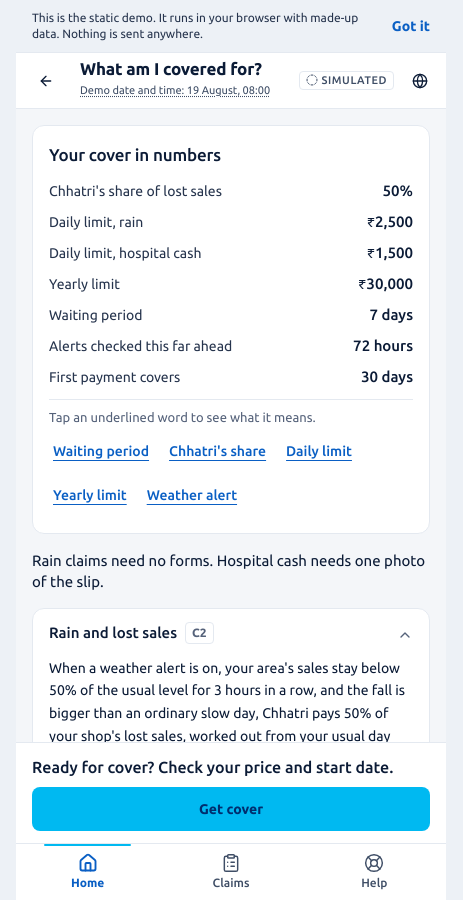
the next action of the screen › says get cover for a merchant with no cover
The image size is (463, 900).
Click the button with test id "app-nba-action": x=231, y=809 [32,787,430,831]
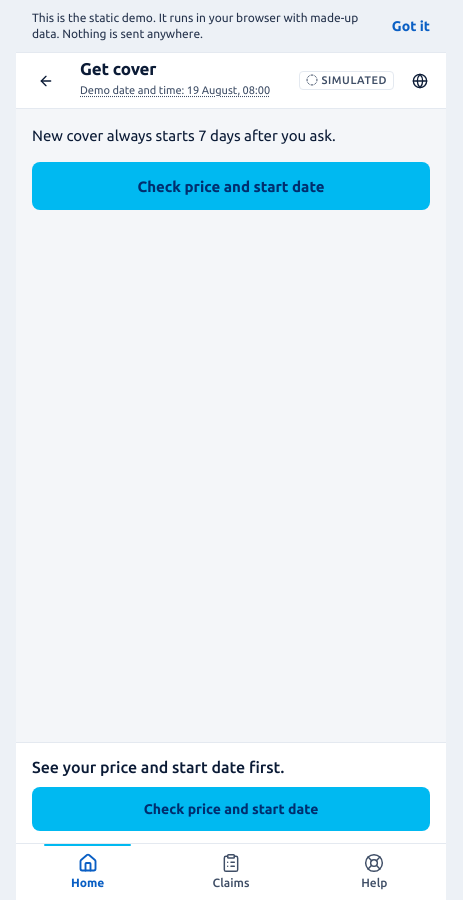
Expected: the element with test id "screen-buy" is shown, [16,109,446,226]
